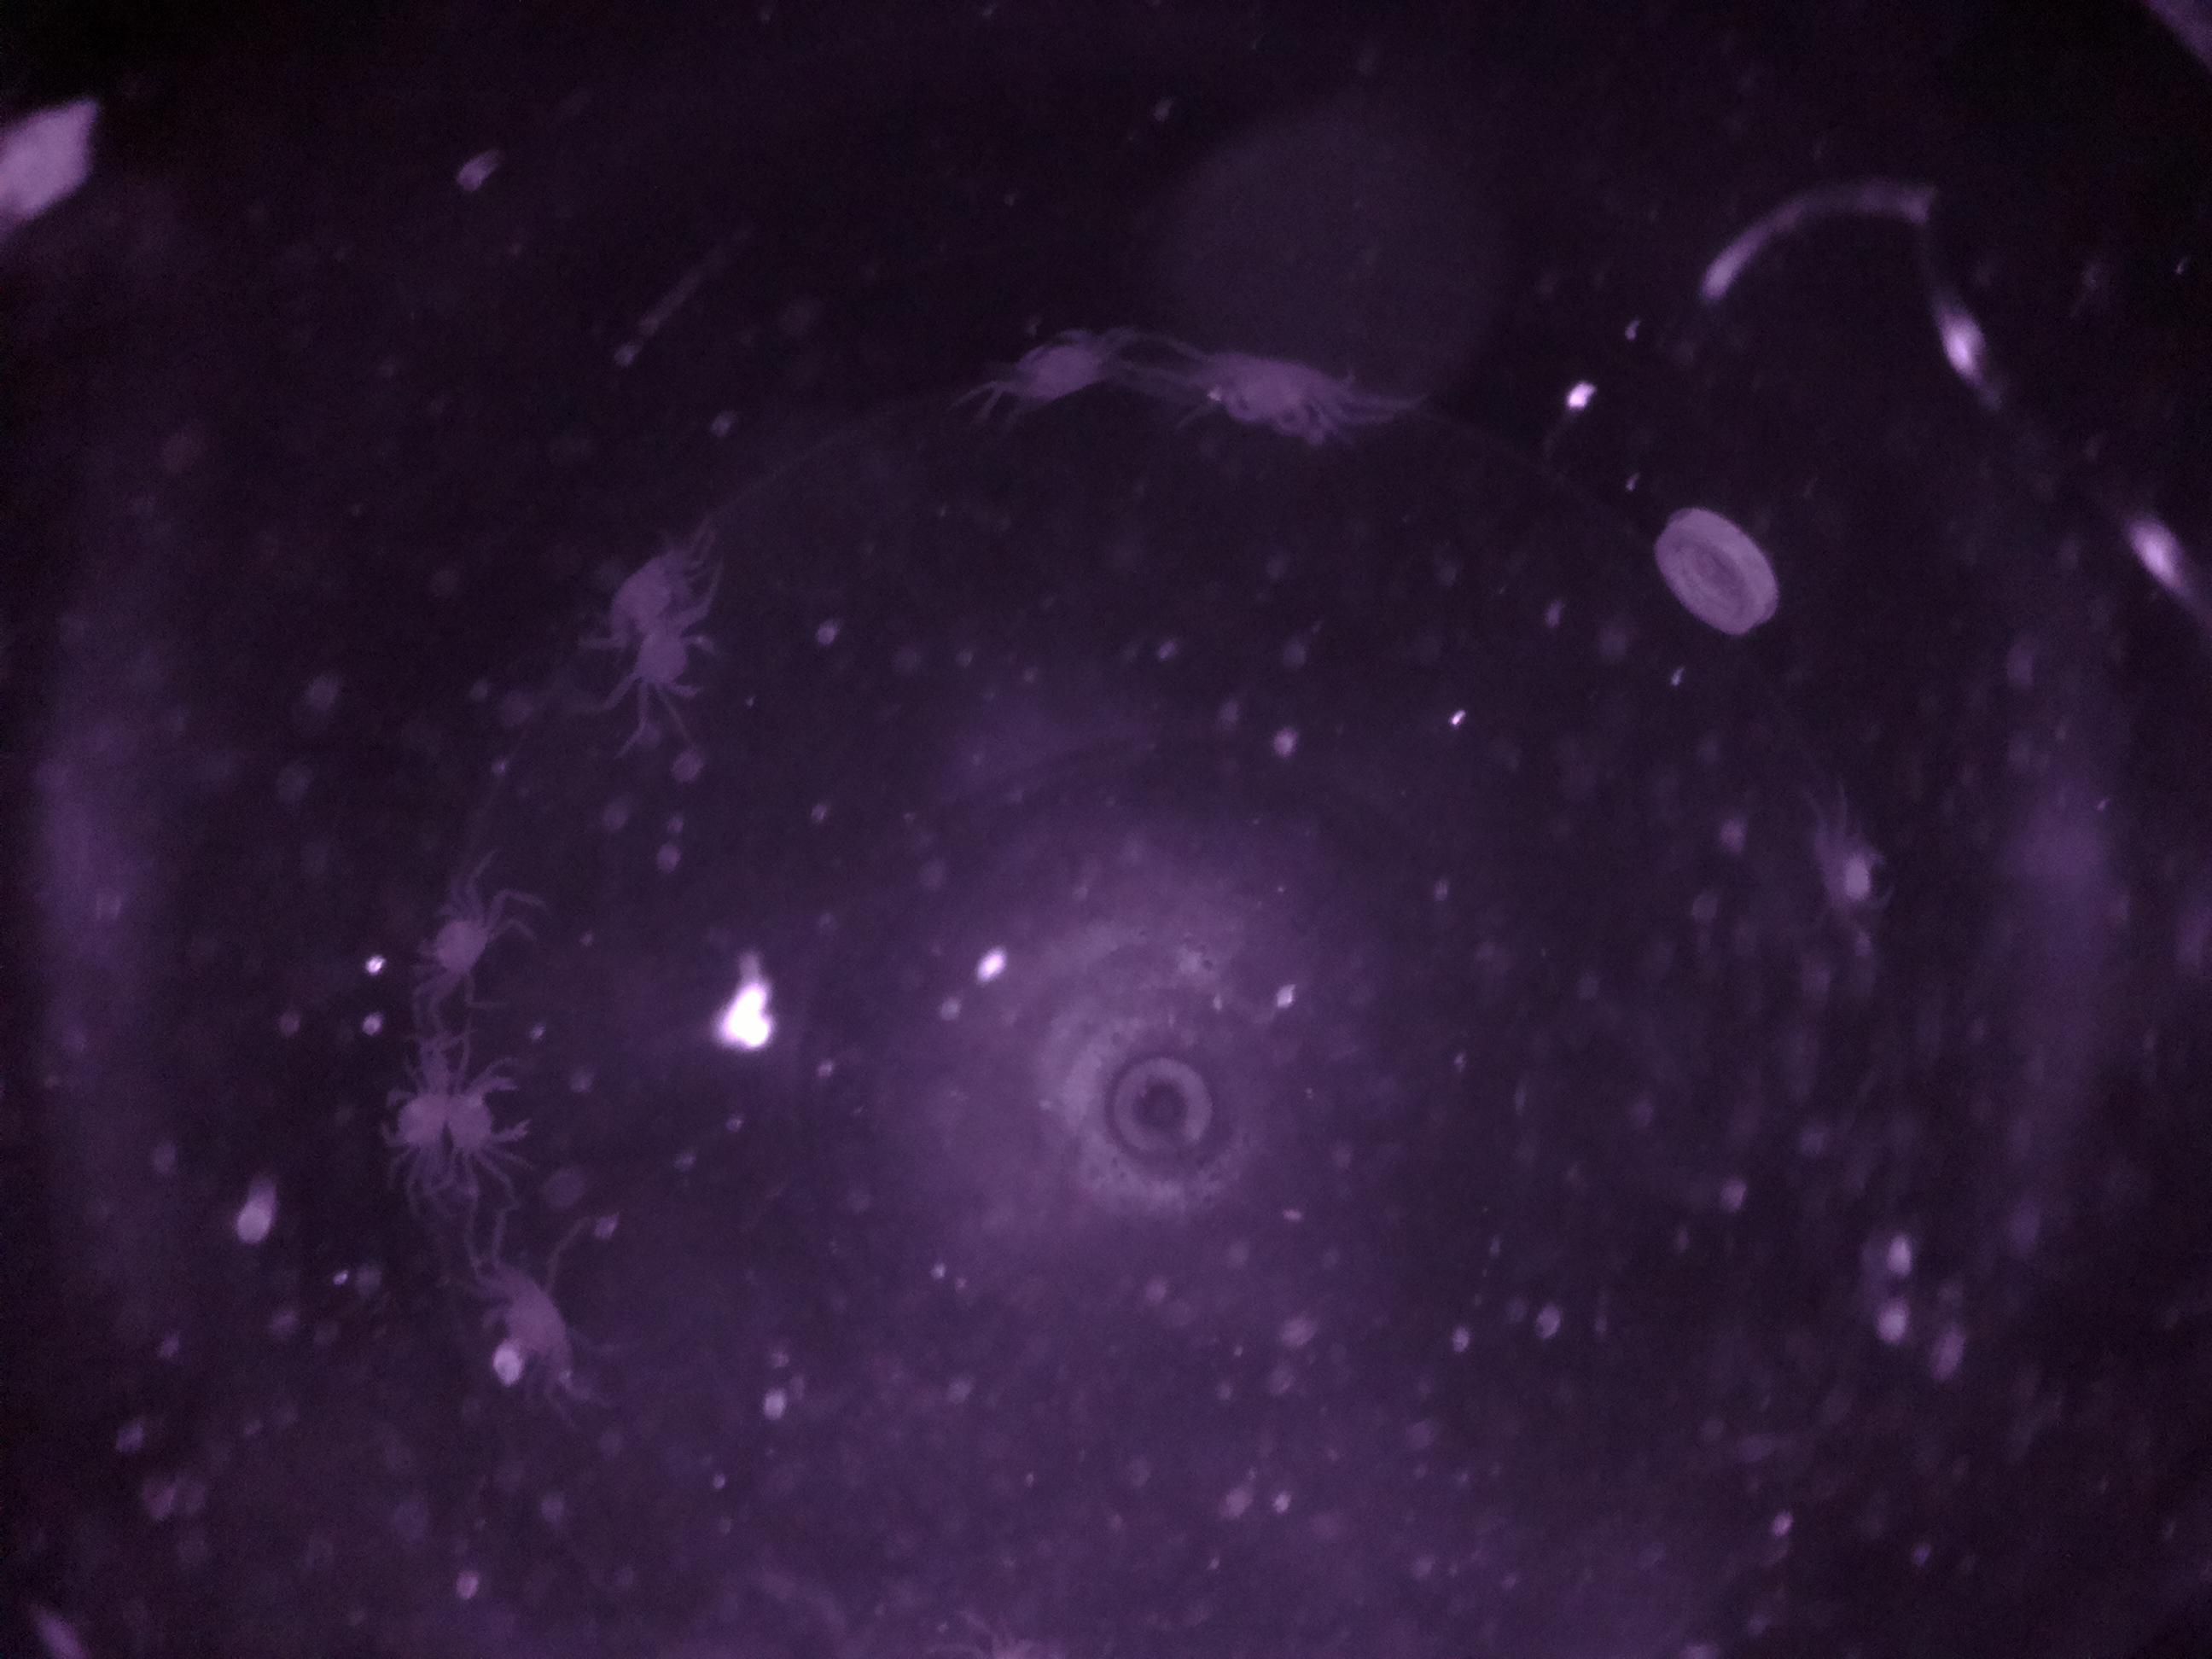Crab: (611, 591, 742, 716), (392, 859, 509, 997), (430, 1037, 543, 1176)
